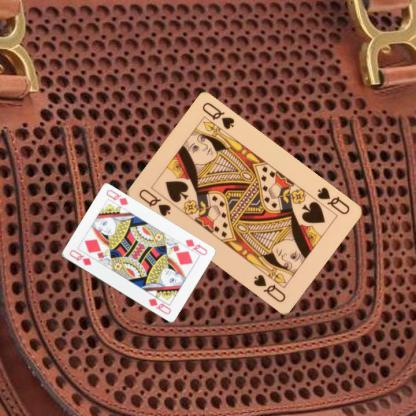Qd: (178, 236, 209, 257), (66, 247, 92, 267)
Qs: (135, 186, 172, 218), (314, 184, 350, 216)
